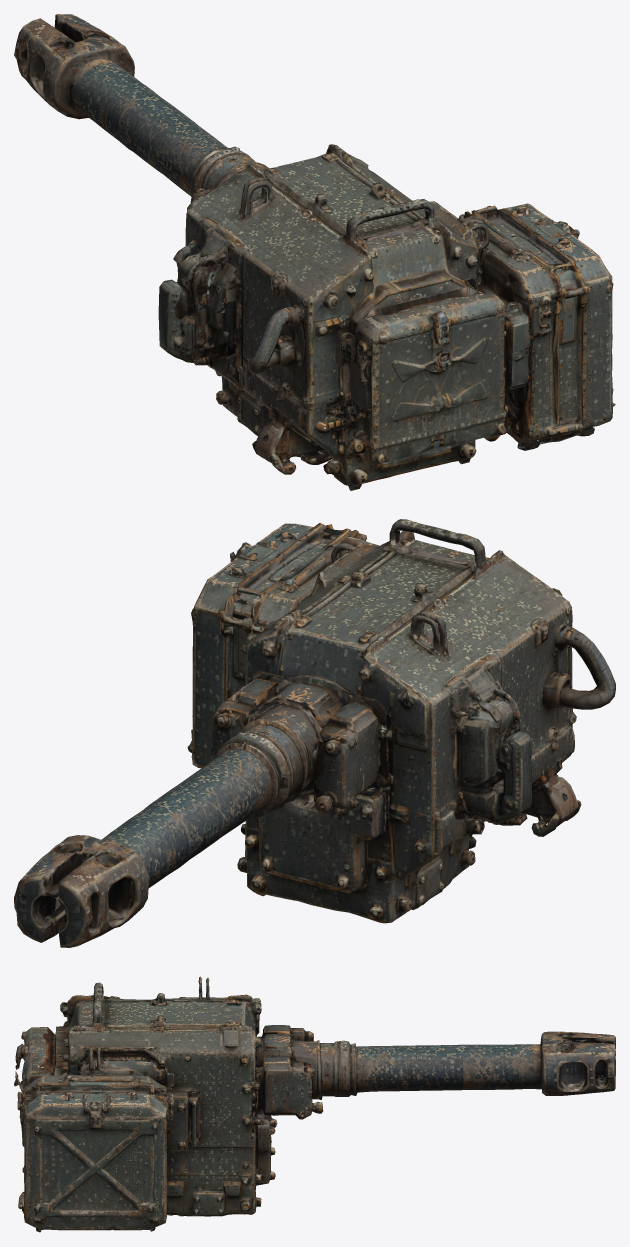
File: BK_Gun40.fbx
3 renders of one model, top to bottom at view 1: azimuth 30°, elevation 25°; view 2: azimuth 150°, elevation 25°; view 3: azimuth 270°, elevation 25°, orthographic. The views are drawn at different scales.
Visible parts, largest first — view 1: texture_mapping; view 2: texture_mapping; view 3: texture_mapping.
Part boxes in pixels (box(x1,y1,x2,y2)): texture_mapping: box(14, 14, 615, 490); texture_mapping: box(14, 519, 615, 947); texture_mapping: box(14, 976, 615, 1232).
Size of the model in its own units: 0.4827 by 0.9925 by 0.363.
Materials: 1 (1 with a texture image).
